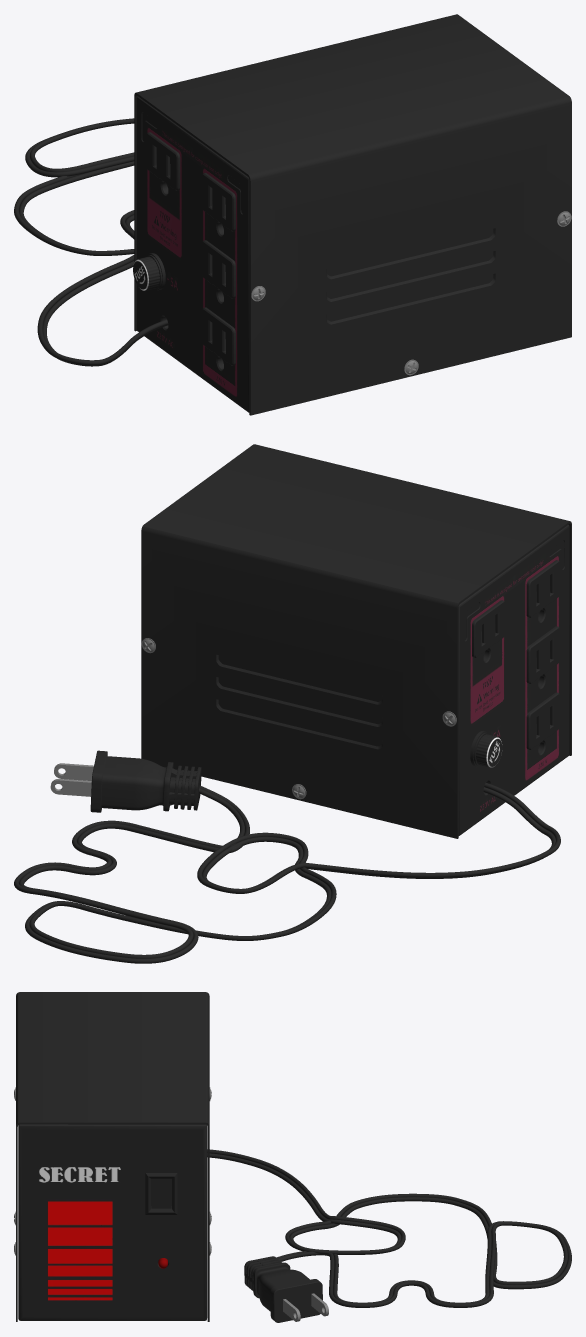
Rendered from avr.glb.
The picture shows the model from 3 angles, top to bottom: view 1: azimuth 30°, elevation 25°; view 2: azimuth 150°, elevation 25°; view 3: azimuth 270°, elevation 25°; orthographic projection. The views are drawn at different scales.
Parts seen in each view (by area): view 1: avr; view 2: avr; view 3: avr.
Boxes of the visible parts, box(x1,y1,x2,y2) form: avr: box(14, 14, 571, 415); avr: box(14, 444, 571, 963); avr: box(14, 992, 571, 1322).
Size of the model in its own units: 0.2092 by 0.1069 by 0.2709.
Materials: 3 (1 with a texture image).
